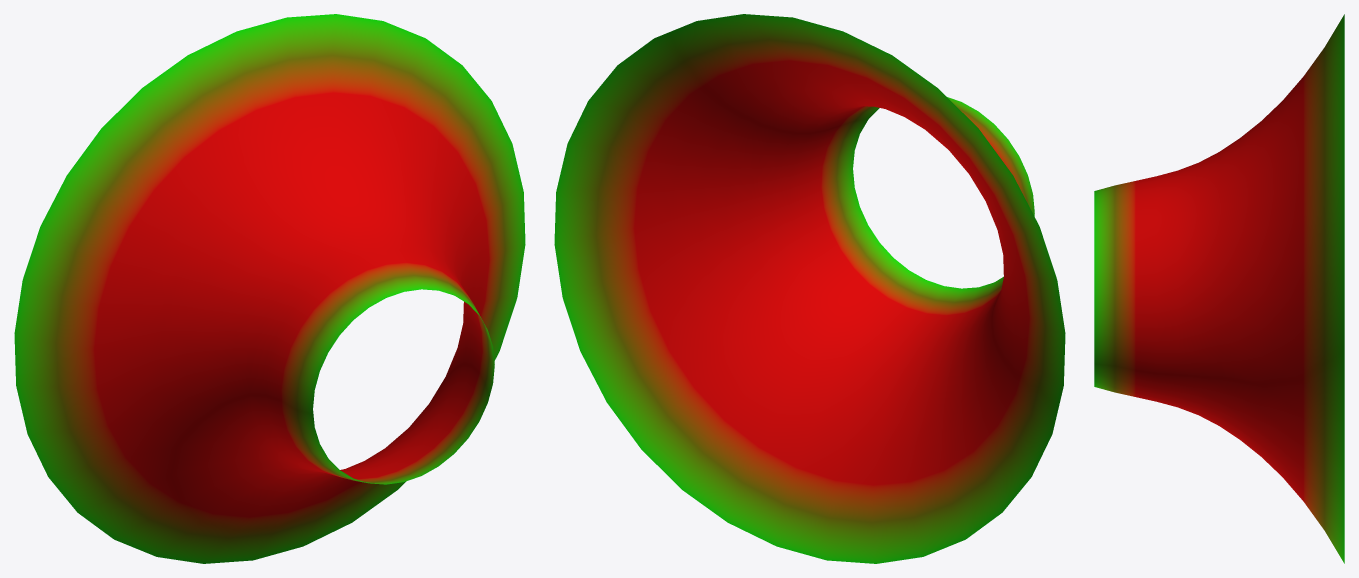
File: SM_Kaiser_Fresnelfront_03.FBX
3 renders of one model, left to right at view 1: azimuth 30°, elevation 25°; view 2: azimuth 150°, elevation 25°; view 3: azimuth 270°, elevation 25°, orthographic. The views are drawn at different scales.
Parts seen in each view (by area): view 1: SM_Kaiser_Fresnelfront_03; view 2: SM_Kaiser_Fresnelfront_03; view 3: SM_Kaiser_Fresnelfront_03.
Part boxes in pixels (x1,y1,x2,y2): SM_Kaiser_Fresnelfront_03: [14, 14, 525, 563]; SM_Kaiser_Fresnelfront_03: [554, 14, 1065, 563]; SM_Kaiser_Fresnelfront_03: [1094, 14, 1344, 563].
Size of the model in its own units: 953 by 433 by 953.
